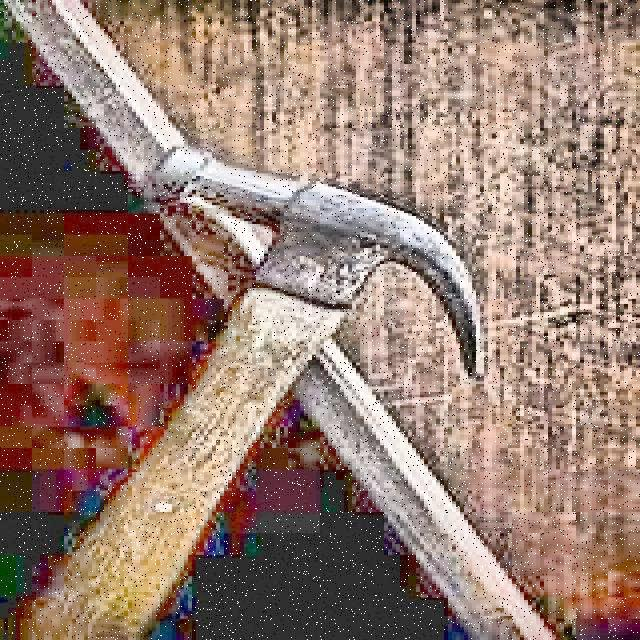hammer: (23, 145, 489, 639)
